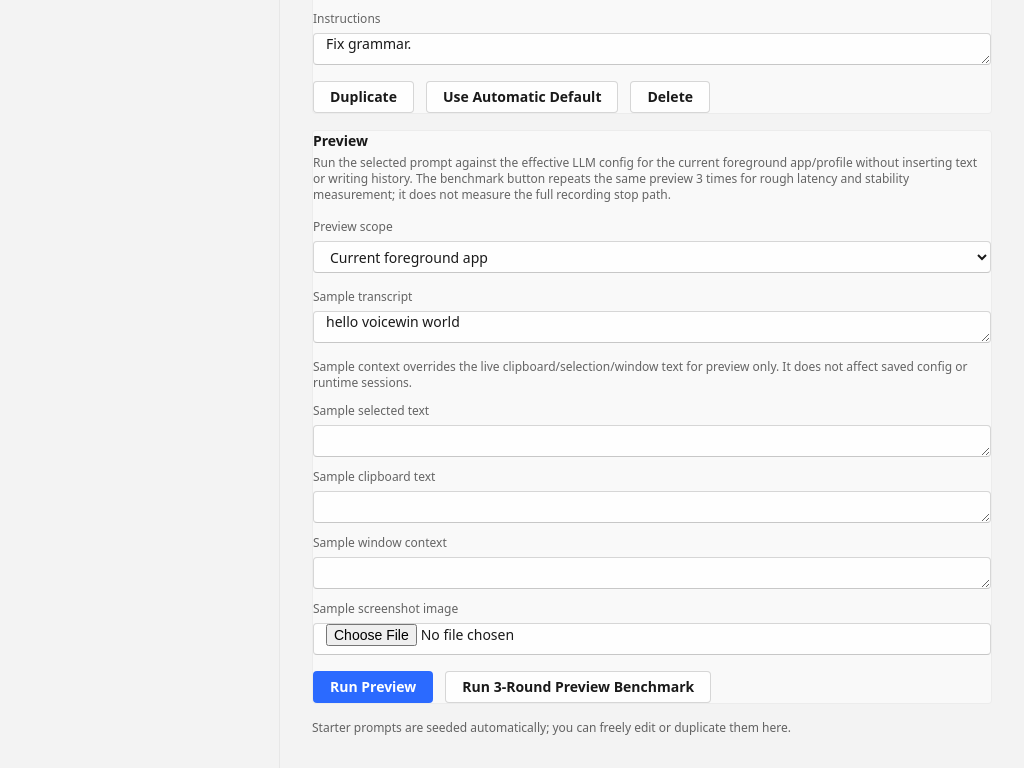
Scenario: PromptsPage › runs a 3-round preview benchmark and summarizes latency plus output stability
(page scrolled)
Click the button "Run 3-Round Preview Benchmark" at (578, 687), box [445,671,711,703]
(page scrolled)
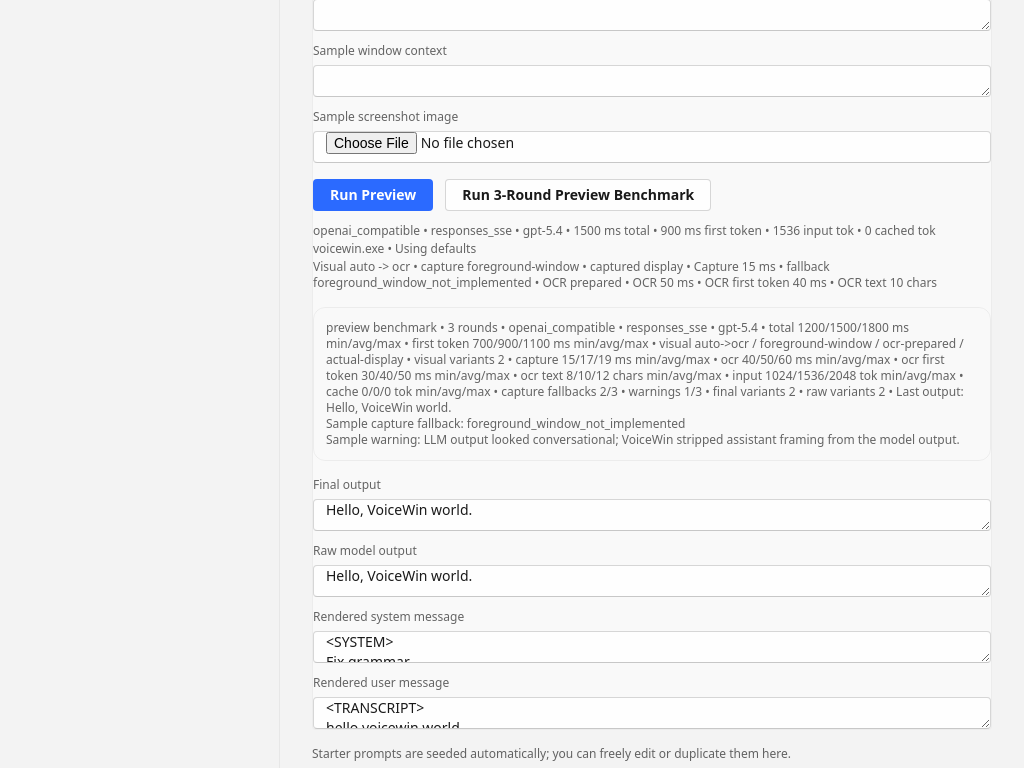
expect the text "preview benchmark • 3 rounds • openai_compatible • responses_sse • gpt-5.4 • total 1200/1500/1800 ms min/avg/max • f" is shown: met, box [326,319,967,416]
expect the text "Sample capture fallback: foreground_window_not_implemented" is shown: met, box [326,415,686,432]
expect the text "Sample warning: LLM output looked conversational; VoiceWin stripped assistant framing from the model output." is shown: met, box [326,431,960,448]
